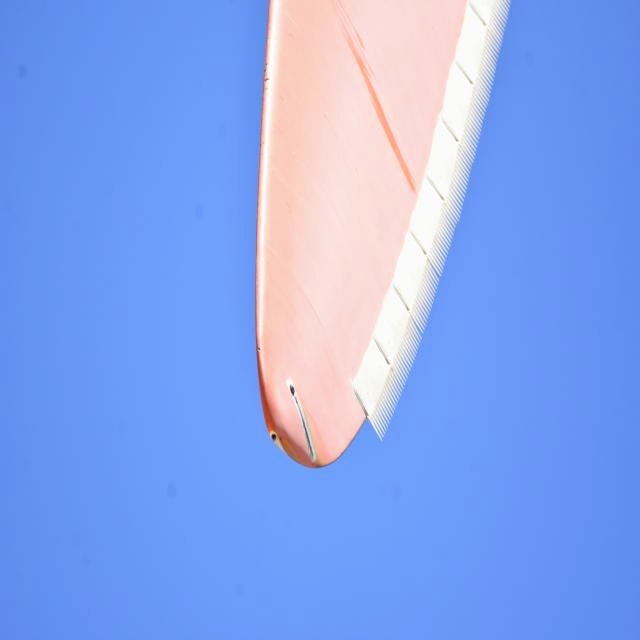Coating_defects: (269, 425, 280, 447)
Crack: (285, 395, 329, 465)
